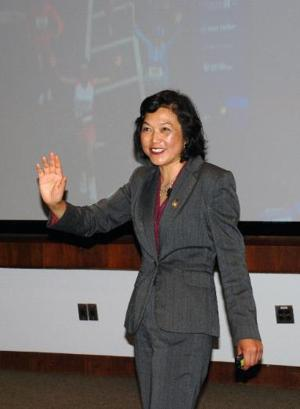person: (36, 89, 262, 409)
